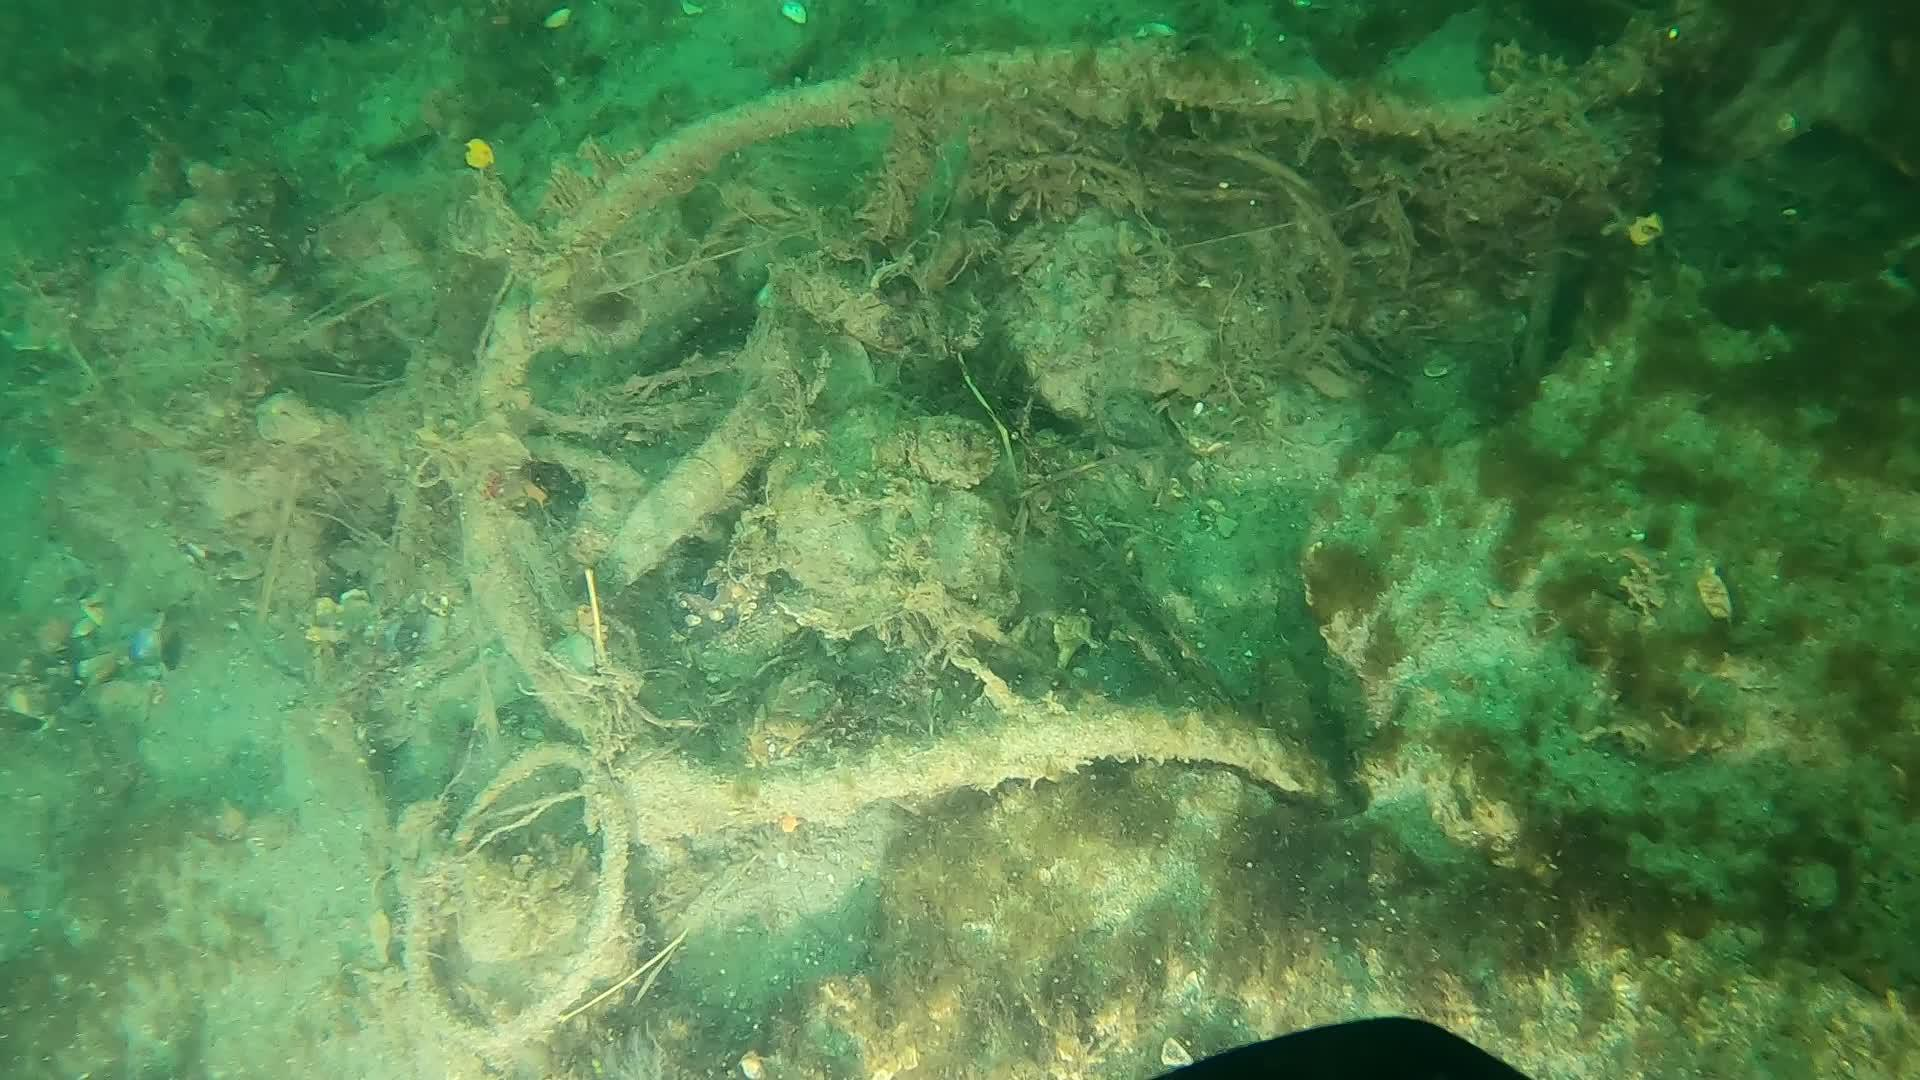rope: (454, 37, 1656, 822), (402, 740, 624, 1051)
